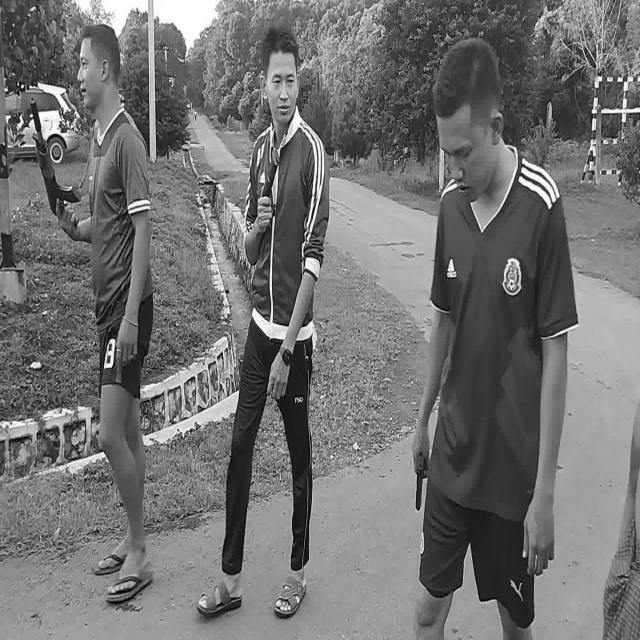gun: (30, 97, 80, 226), (416, 457, 424, 511)
